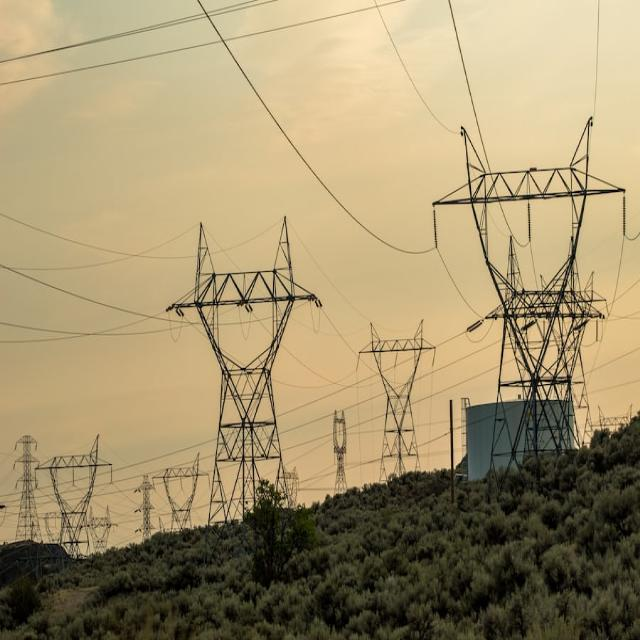transmission tower: (442, 90, 622, 453), (137, 196, 311, 518), (349, 299, 439, 505), (41, 438, 123, 579)
